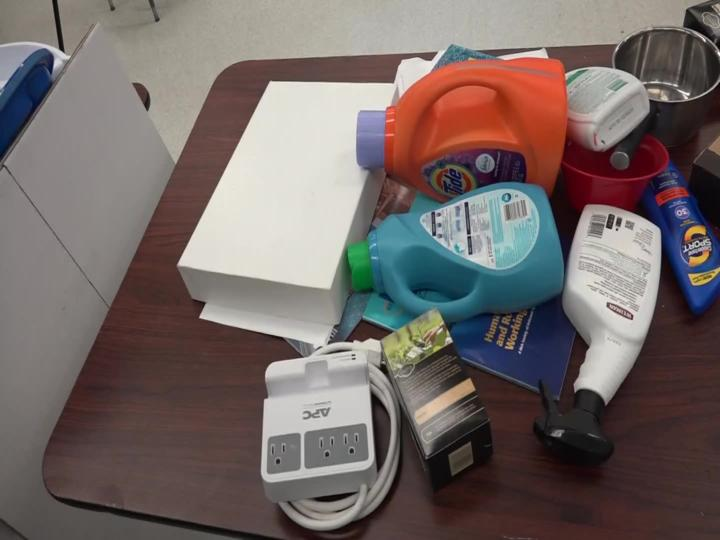downy: (332, 172, 570, 326)
